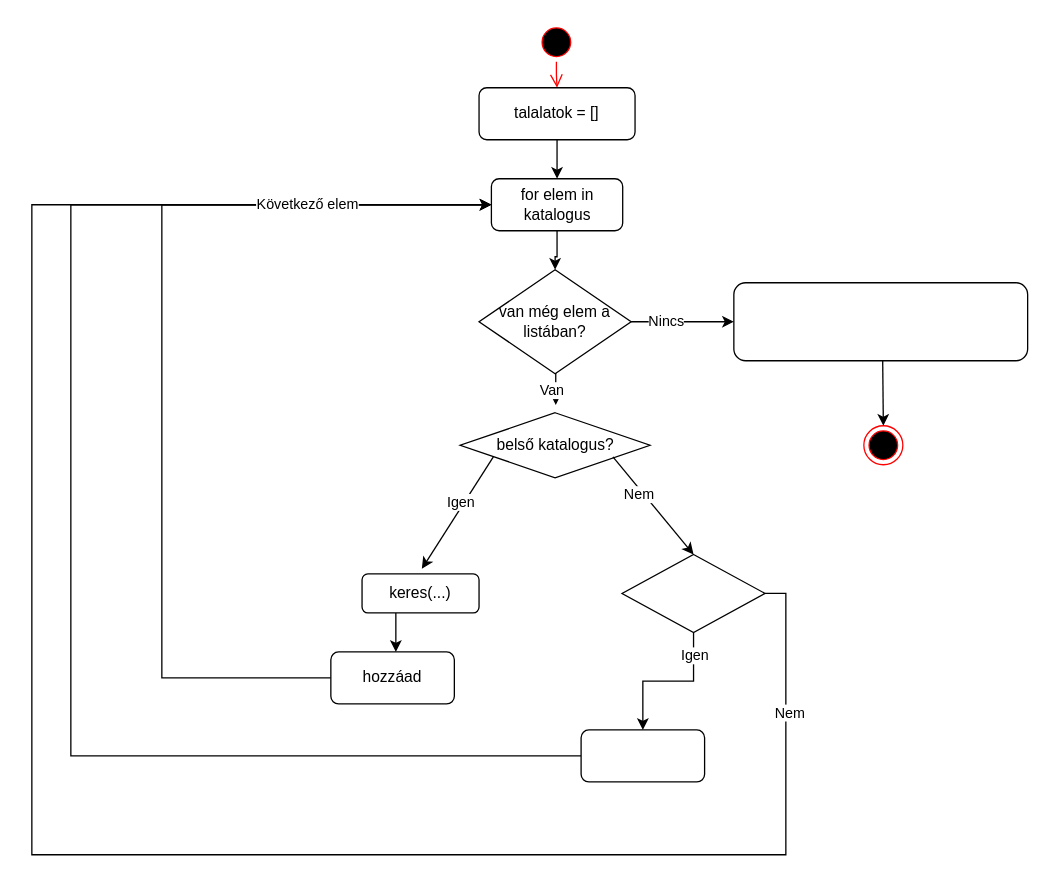
This 1050x888 diagram has some shape labels left out. Here are the shapes that lost their labels. From the top down, the centre of each, then its label:
(x=880, y=321): Return találatok
(x=693, y=592): megfelel a keresésnek?
(x=642, y=755): hozzáad a találatokhoz
